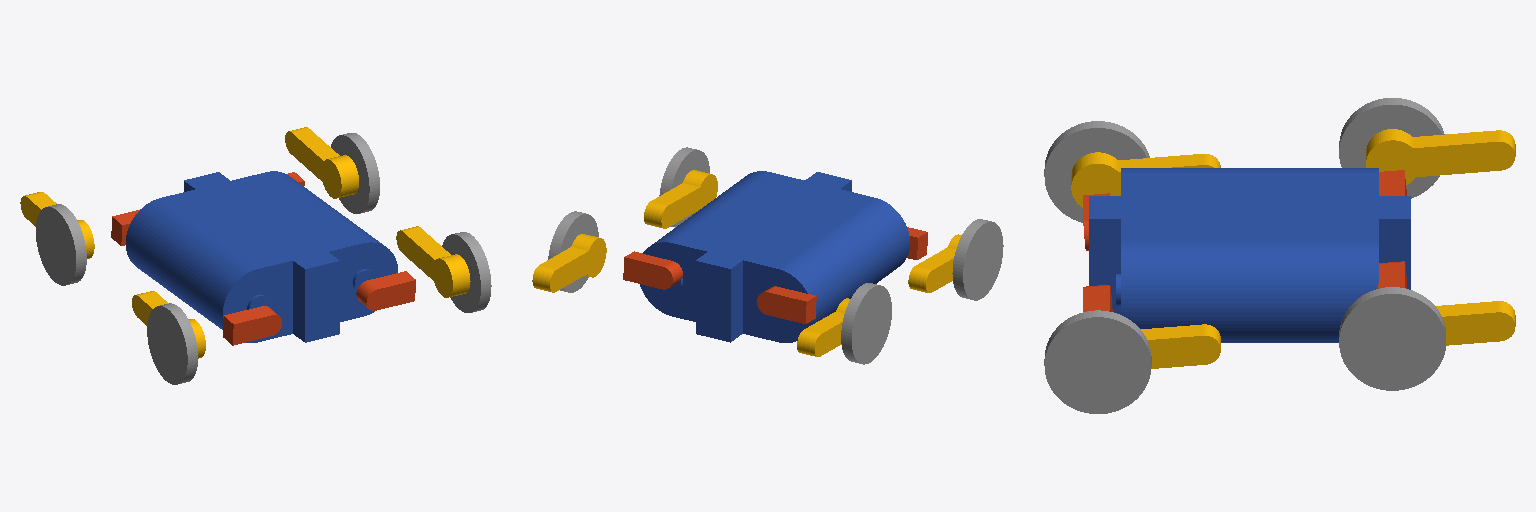
--- Render facts (derived) ---
Views: 3 orthographic renders of the robot side by side, from view 1: azimuth 30°, elevation 25°; view 2: azimuth 150°, elevation 25°; view 3: azimuth 270°, elevation 25°.
Model wheely with 17 links and 16 joints (12 revolute, 4 continuous), rooted at base, posed all joints at 0.
Links seen in each view (by area): view 1: base, BRW, FRW, BLLL, FLLL, FLW, BLW, FLH, FRH, FRLL, BRLL, BRH; view 2: base, BRW, FRW, BLLL, FLLL, BRH, BLH, FRLL, BRLL, BLW, FLW, FRH; view 3: base, FLW, BLW, BRLL, FRW, BRW, FRLL, BLLL, FLLL, FLH, BLH, BRH.
Boxes of the visible links, left/top/right/bottom form: base: left=126, top=171, right=397, bottom=342; BRW: left=36, top=204, right=86, bottom=285; FRW: left=147, top=303, right=197, bottom=384; BLLL: left=285, top=127, right=358, bottom=198; FLLL: left=396, top=226, right=470, bottom=297; FLW: left=442, top=232, right=491, bottom=312; BLW: left=331, top=133, right=379, bottom=213; FLH: left=356, top=271, right=415, bottom=310; FRH: left=223, top=306, right=281, bottom=345; FRLL: left=132, top=291, right=205, bottom=358; BRLL: left=20, top=192, right=94, bottom=258; BRH: left=111, top=210, right=139, bottom=245; base: left=640, top=171, right=909, bottom=342; BRW: left=841, top=283, right=891, bottom=364; FRW: left=952, top=219, right=1003, bottom=300; BLLL: left=532, top=234, right=606, bottom=292; FLLL: left=644, top=170, right=717, bottom=228; BRH: left=757, top=286, right=816, bottom=323; BLH: left=623, top=251, right=682, bottom=289; FRLL: left=908, top=234, right=961, bottom=292; BRLL: left=797, top=298, right=849, bottom=356; BLW: left=548, top=211, right=598, bottom=292; FLW: left=659, top=147, right=709, bottom=227; FRH: left=907, top=227, right=927, bottom=259; base: left=1089, top=168, right=1410, bottom=342; FLW: left=1044, top=310, right=1151, bottom=413; BLW: left=1339, top=287, right=1445, bottom=390; BRLL: left=1366, top=129, right=1515, bottom=184; FRW: left=1044, top=121, right=1149, bottom=222; BRW: left=1339, top=98, right=1444, bottom=198; FRLL: left=1071, top=152, right=1220, bottom=207; BLLL: left=1436, top=301, right=1515, bottom=345; FLLL: left=1141, top=324, right=1220, bottom=368; FLH: left=1083, top=285, right=1112, bottom=311; BLH: left=1378, top=261, right=1406, bottom=288; BRH: left=1379, top=170, right=1406, bottom=195.
Bounding box of the posed robot: 0.433 × 0.4396 × 0.1241 m (x, y, z).
13 mesh visuals loaded from 5 distinct referenced files (4 binary STL); not drawn: 4 (reference not matched to a file when rendering).

The robot description file, URDF, robot "wheely":
<?xml version="1.0" encoding="utf-8"?>
<robot name="wheely">
    <!-- <link name="base">
        <visual>
            <origin rpy="0 0 0" xyz="0 0 0" />
            <geometry>
                <box size="0.001 0.001 0.001" />
            </geometry>
        </visual>
    </link>
    <joint name="floating_base" type="fixed">
        <origin rpy="0 0 0" xyz="0 0 0" />
        <parent link="base" />
        <child link="trunk" />
    </joint> -->
    <link name="base">
        <visual>
            <origin xyz="0.052028044034958947917 0.32788004898623768213 -0.25518667591527960381"
                rpy="0 -0 -0" />
            <geometry>
                <mesh filename="../meshes/V2.9/trunk.stl" />
            </geometry>
            <material name="trunk_material">
                <color rgba="0.2313725490196078538 0.38039215686274507888 0.7058823529411765163 1.0" />
            </material>
        </visual>
        <collision>
            <origin xyz="0.052028044034958947917 0.32788004898623768213 -0.25518667591527960381"
                rpy="0 0 0" />
            <geometry>
                <mesh filename="../meshes/V2.9/base_collision.stl" />
            </geometry>
        </collision>
        <inertial>
            <origin xyz="0.052028043192024649166 0.32352226095884867307 -0.20537694108855775177"
                rpy="0 0 0" />
            <mass value="1.0520000000000000462" />
            <inertia ixx="0.0066139164607848313637" ixy="-2.2127823919599840592e-11"
                ixz="-6.4087305219667747752e-11" iyy="0.0053174843071791873944"
                iyz="-0.00043473231152154929047" izz="0.010248462186210408054" />
        </inertial>
    </link>

    <link name="FRH">
        <visual>
            <origin xyz="0.032215611636638635806 0.028555101990603987128 0"
                rpy="1.570796326794896558 1.1108205397628203633e-25 2.389243996016179635e-24" />
            <geometry>
                <mesh filename="../meshes/V2.9/h.stl" />
            </geometry>
            <material name="h_material">
                <color
                    rgba="0.86666666666666669627 0.32156862745098041545 0.15686274509803921351 1.0" />
            </material>
        </visual>
        <inertial>
            <origin
                xyz="0.021525592503996215932 -1.7347234759768070944e-17 -0.012500000000000000694"
                rpy="0 0 0" />
            <mass value="0.0090000000000000010547" />
            <inertia ixx="1.1139804559497147109e-06" ixy="-4.7104694595813762511e-30"
                ixz="2.1217815524415606115e-30" iyy="3.861958513835964979e-06"
                iyz="4.2501859106604311021e-23" izz="4.0384389697856793485e-06" />
        </inertial>
    </link>

    <link name="FRLU">
        <visual>
            <origin
                xyz="2.7755575615628913511e-17 2.7755575615628913511e-17 -0.044999999999999998335"
                rpy="-1.570796326794896558 -1.570796326794896558 0" />
            <geometry>
                <mesh filename="../meshes/V2.9/lu.stl" />
            </geometry>
            <material name="lu_material">
                <color
                    rgba="0.90980392156862743835 0.57254901960784310155 0.16470588235294117418 1.0" />
            </material>
        </visual>
        <collision>
            <origin
                xyz="2.7755575615628913511e-17 2.7755575615628913511e-17 -0.044999999999999998335"
                rpy="-1.570796326794896558 -1.570796326794896558 0" />
            <geometry>
                <mesh filename="../meshes/V2.9/LU_collision.stl" />
            </geometry>
        </collision>
        <inertial>
            <origin
                xyz="3.3936924476517365403e-17 -0.049999999999999968081 -0.022499999999999992228"
                rpy="0 0 0" />
            <mass value="0.37600000000000000089" />
            <inertia ixx="0.00054596018323756559387" ixy="-6.2909339871692696768e-21"
                ixz="-2.7466218204555690158e-28" iyy="9.0305640199817038306e-05"
                iyz="-1.1186833988322070734e-27" izz="0.00050936582343738242076" />
        </inertial>
    </link>

    <link name="FRLL">
        <visual>
            <origin xyz="0 0 -0.024999999999999980571"
                rpy="-1.570796326794896558 -1.570796326794896558 0" />
            <geometry>
                <mesh filename="../meshes/V2.9/ll.stl" />
            </geometry>
            <material name="ll_material">
                <color rgba="1 0.7568627450980391913 0.054901960784313724728 1.0" />
            </material>
        </visual>
        <collision>
            <origin xyz="0 0 -0.024999999999999980571"
                rpy="-1.570796326794896558 -1.570796326794896558 0" />
            <geometry>
                <mesh filename="../meshes/V2.9/LL_collision.stl" />
            </geometry>
        </collision>
        <inertial>
            <origin
                xyz="5.4351954812993782202e-18 -0.061136909622975937895 -0.012499999999999978142"
                rpy="0 0 0" />
            <mass value="0.058000000000000002942" />
            <inertia ixx="9.3657217382847482521e-05" ixy="1.8944387790966397996e-21"
                ixz="1.9264078887896144911e-28" iyy="9.3296789238021415761e-06"
                iyz="8.0611222752185609261e-29" izz="9.6945229639982987888e-05" />
        </inertial>
    </link>

    <link name="FRW">
        <visual>
            <origin xyz="-0.087087206542491885086 -0.027046862989664105514 -0.015000000000000041078"
                rpy="-1.570796326794896558 -1.570796326794896558 0" />
            <geometry>
                <mesh filename="../meshes/V2.9/w.stl" />
            </geometry>
            <material name="w_material">
                <color
                    rgba="0.64705882352941179736 0.64705882352941179736 0.64705882352941179736 1.0" />
            </material>
        </visual>
        <collision>
            <origin xyz="-0.087087206542491885086 -0.027046862989664105514 -0.015000000000000041078"
                rpy="-1.570796326794896558 -1.570796326794896558 0" />
            <geometry>
                <mesh filename="../meshes/V2.9/W_collision.stl" />
            </geometry>
        </collision>
        <inertial>
            <origin
                xyz="4.1117825183426055003e-17 -2.7755575615628913511e-17 -0.0075000000000000422232"
                rpy="0 0 0" />
            <mass value="0.036999999999999998168" />
            <inertia ixx="2.3818750000000009755e-05" ixy="-3.3980231466975062248e-22"
                ixz="-2.3298381774475384034e-28" iyy="2.3818750000000006367e-05"
                iyz="6.4062349800968410432e-29" izz="4.6249999999999985784e-05" />
        </inertial>
    </link>

    <joint name="FRW" type="continuous">
        <origin xyz="0 -0.09999999999999995004 -0.025499999999999981015"
            rpy="1.9733806694702264955e-23 -1.1152152026486324738e-23 1.57079632679489678" />
        <parent link="FRLL" />
        <child link="FRW" />
        <axis xyz="0 0 1" />
        <limit effort="3.43" velocity="1.5707" />
        <dynamics damping="0.5" friction="0.0"/>
    </joint>

    <joint name="FRK" type="revolute">
        <origin xyz="2.7755575615628913511e-17 -0.099999999999999894529 -0.045500000000000012657"
            rpy="-7.1116470838921432146e-22 -2.2925350776676440181e-23 3.141592653589753148" />
        <parent link="FRLU" />
        <child link="FRLL" />
        <axis xyz="0 0 1" />
        <limit effort="6.864655" velocity="8.055365759832842" lower="0" upper="3.141592653589793116" />
        <dynamics damping="0.5" friction="0.0"/>
    </joint>

    <joint name="FRHL" type="revolute">
        <origin xyz="0.055499999999999966027 -5.5511151231257827021e-17 -0.012499999999999983347"
            rpy="-1.570796326794896558 -1.7868117234929788401e-08 1.5707963267948958919" />
        <parent link="FRH" />
        <child link="FRLU" />
        <axis xyz="0 0 1" />
        <limit effort="6.864655" velocity="8.055365759832842" lower="-3.141592653589793116" upper="0" />
        <dynamics damping="0.5" friction="0.0"/>
    </joint>

    <joint name="FRHU" type="revolute">
        <origin xyz="-0.022971959406365649592 0.19849982820089065449 -0.21631499016155675275"
            rpy="1.4835298463270636393 1.4990033393763916416e-08 3.1415926314949418341" />
        <parent link="base" />
        <child link="FRH" />
        <axis xyz="0 0 1" />
        <limit effort="6.864655" velocity="8.055365759832842" lower="-0.5" upper="0.5" /> <!--lower="-1.570796326794896558" upper="1.570796326794896558"-->
        <dynamics damping="0.5" friction="0.0"/>
    </joint>

    <link name="FLH">
        <visual>
            <origin xyz="0.032215611636638635806 0.028555101990604014883 0"
                rpy="1.570796326794896558 9.1075724079965769096e-25 1.505906012323039885e-24" />
            <geometry>
                <mesh filename="../meshes/V2.9/h.stl" />
            </geometry>
            <material name="h_material">
                <color
                    rgba="0.86666666666666669627 0.32156862745098041545 0.15686274509803921351 1.0" />
            </material>
        </visual>
        <inertial>
            <origin xyz="0.021525592503996215932 1.0408340855860842566e-17 -0.012500000000000000694"
                rpy="0 0 0" />
            <mass value="0.0090000000000000010547" />
            <inertia ixx="1.1139804559497151344e-06" ixy="-1.9689084518447163995e-31"
                ixz="3.3800616490418434534e-30" iyy="3.861958513835964979e-06"
                iyz="-2.7196292853585677277e-23" izz="4.0384389697856793485e-06" />
        </inertial>
    </link>

    <link name="FLLU">
        <visual>
            <origin xyz="-2.7755575615628913511e-17 -2.7755575615628913511e-17 0"
                rpy="1.570796326794896558 1.570796326794896558 0" />
            <geometry>
                <mesh filename="../meshes/V2.9/lu.stl" />
            </geometry>
            <material name="lu_material">
                <color
                    rgba="0.90980392156862743835 0.57254901960784310155 0.16470588235294117418 1.0" />
            </material>
        </visual>
        <collision>
            <origin xyz="-2.7755575615628913511e-17 -2.7755575615628913511e-17 0"
                rpy="1.570796326794896558 1.570796326794896558 0" />
            <geometry>
                <mesh filename="../meshes/V2.9/LU_collision.stl" />
            </geometry>
        </collision>
        <inertial>
            <origin
                xyz="-2.2274676627093840081e-17 0.049999999999999981959 -0.022500000000000006106"
                rpy="0 0 0" />
            <mass value="0.37600000000000000089" />
            <inertia ixx="0.00054596018323756537703" ixy="-2.2992841737624431057e-21"
                ixz="2.7015283880290629614e-28" iyy="9.0305640199817092516e-05"
                iyz="-9.070826082759685624e-29" izz="0.00050936582343738242076" />
        </inertial>
    </link>

    <link name="FLLL">
        <visual>
            <origin xyz="0 0 0" rpy="1.570796326794896558 1.570796326794896558 0" />
            <geometry>
                <mesh filename="../meshes/V2.9/ll.stl" />
            </geometry>
            <material name="ll_material">
                <color rgba="1 0.7568627450980391913 0.054901960784313724728 1.0" />
            </material>
        </visual>
        <collision>
            <origin xyz="0 0 0" rpy="1.570796326794896558 1.570796326794896558 0" />
            <geometry>
                <mesh filename="../meshes/V2.9/LL_collision.stl" />
            </geometry>
        </collision>
        <inertial>
            <origin xyz="5.7405508275014623238e-18 0.061136909622975937895 -0.012500000000000002429"
                rpy="0 0 0" />
            <mass value="0.058000000000000002942" />
            <inertia ixx="9.3657217382847509626e-05" ixy="1.3290574521296746837e-21"
                ixz="6.6457046954983543975e-31" iyy="9.3296789238021415761e-06"
                iyz="1.723172485519355639e-28" izz="9.6945229639982987888e-05" />
        </inertial>
    </link>

    <link name="FLW">
        <visual>
            <origin xyz="-0.087087206542491898964 0.027046862989664105514 0"
                rpy="1.570796326794896558 1.570796326794896558 0" />
            <geometry>
                <mesh filename="../meshes/V2.9/w.stl" />
            </geometry>
            <material name="w_material">
                <color
                    rgba="0.64705882352941179736 0.64705882352941179736 0.64705882352941179736 1.0" />
            </material>
        </visual>
        <collision>
            <origin xyz="-0.087087206542491898964 0.027046862989664105514 0"
                rpy="1.570796326794896558 1.570796326794896558 0" />
            <geometry>
                <mesh filename="../meshes/V2.9/W_collision.stl" />
            </geometry>
        </collision>
        <inertial>
            <origin
                xyz="1.4189161324449813362e-17 2.7755575615628913511e-17 -0.0074999999999999997224"
                rpy="0 0 0" />
            <mass value="0.036999999999999998168" />
            <inertia ixx="2.3818749999999996202e-05" ixy="-5.4842054254748524998e-22"
                ixz="-4.3511704709532121015e-29" iyy="2.3818750000000006367e-05"
                iyz="1.5881364658331320458e-29" izz="4.6249999999999999336e-05" />
        </inertial>
    </link>

    <joint name="FLW" type="continuous">
        <origin xyz="-5.5511151231257827021e-17 0.10000000000000056066 -0.025499999999999994893"
            rpy="-1.7353970132847589299e-16 5.3303376734589298289e-17 -1.5707963267948992225" />
        <parent link="FLLL" />
        <child link="FLW" />
        <axis xyz="0 0 1" />
        <limit effort="3.43" velocity="1.5707" />
        <dynamics damping="0.5" friction="0.0"/>
    </joint>

    <joint name="FLK" type="revolute">
        <origin xyz="-2.7755575615628913511e-17 0.10000000000000000555 -0.045500000000000068168"
            rpy="-7.8652590286309986181e-18 -4.7062504561224808517e-16 3.1415926520183123927" />
        <parent link="FLLU" />
        <child link="FLLL" />
        <axis xyz="0 0 1" />
        <limit effort="6.864655" velocity="8.055365759832842" lower="-3.141592653589793116" upper="0" />
        <dynamics damping="0.5" friction="0.0"/>
    </joint>

    <joint name="FLHL" type="revolute">
        <origin xyz="0.055500000000000021538 2.7755575615628913511e-17 -0.012500000000000011102"
            rpy="1.570796326794896558 -4.159598675987668933e-09 -1.5707963267948958919" />
        <parent link="FLH" />
        <child link="FLLU" />
        <axis xyz="0 0 1" />
        <limit effort="6.864655" velocity="8.055365759832842" lower="0" upper="3.141592653589793116" />
        <dynamics damping="0.5" friction="0.0"/>
    </joint>

    <joint name="FLHU" type="revolute">
        <origin xyz="0.12702804059363420608 0.19849982488666309544 -0.21631498791305175944"
            rpy="-1.4835298463270638614 6.7904519714569485168e-09 -2.0189305413825018056e-08" />
        <parent link="base" />
        <child link="FLH" />
        <axis xyz="0 0 1" />
        <limit effort="6.864655" velocity="8.055365759832842" lower="-0.5" upper="0.5" /> <!--lower="-1.570796326794896558" upper="1.570796326794896558"-->
        <dynamics damping="0.5" friction="0.0"/>
    </joint>

    <link name="BLH">
        <visual>
            <origin xyz="0.032215611636638663562 -0.028555101990604014883 -0.025000000000000022204"
                rpy="-1.570796326794896558 -8.10198965264292864e-25 9.4990879062215657594e-26" />
            <geometry>
                <mesh filename="../meshes/V2.9/h.stl" />
            </geometry>
            <material name="h_material">
                <color
                    rgba="0.86666666666666669627 0.32156862745098041545 0.15686274509803921351 1.0" />
            </material>
        </visual>
        <inertial>
            <origin
                xyz="0.021525592503996243687 -1.0408340855860842566e-17 -0.012500000000000018041"
                rpy="0 0 0" />
            <mass value="0.0090000000000000010547" />
            <inertia ixx="1.1139804559497151344e-06" ixy="5.4442413068550483629e-31"
                ixz="1.6844066981830151369e-30" iyy="3.861958513835964979e-06"
                iyz="8.6849436149024970986e-23" izz="4.0384389697856810426e-06" />
        </inertial>
    </link>

    <link name="BLLU">
        <visual>
            <origin xyz="-5.5511151231257827021e-17 0 0"
                rpy="1.570796326794896558 1.570796326794896558 0" />
            <geometry>
                <mesh filename="../meshes/V2.9/lu.stl" />
            </geometry>
            <material name="lu_material">
                <color
                    rgba="0.90980392156862743835 0.57254901960784310155 0.16470588235294117418 1.0" />
            </material>
        </visual>
        <collision>
            <origin xyz="-5.5511151231257827021e-17 0 0"
                rpy="1.570796326794896558 1.570796326794896558 0" />
            <geometry>
                <mesh filename="../meshes/V2.9/LU_collision.stl" />
            </geometry>
        </collision>
        <inertial>
            <origin
                xyz="-4.9670691399645773857e-17 0.049999999999999995837 -0.022500000000000006106"
                rpy="0 0 0" />
            <mass value="0.37600000000000000089" />
            <inertia ixx="0.00054596018323756537703" ixy="1.1357734578361653713e-21"
                ixz="1.6575077737249074558e-29" iyy="9.0305640199817038306e-05"
                iyz="-7.7086529605856559569e-28" izz="0.00050936582343738242076" />
        </inertial>
    </link>

    <link name="BLLL">
        <visual>
            <origin xyz="2.7755575615628913511e-17 0 0"
                rpy="1.570796326794896558 1.570796326794896558 0" />
            <geometry>
                <mesh filename="../meshes/V2.9/ll.stl" />
            </geometry>
            <material name="ll_material">
                <color rgba="1 0.7568627450980391913 0.054901960784313724728 1.0" />
            </material>
        </visual>
        <collision>
            <origin xyz="2.7755575615628913511e-17 0 0"
                rpy="1.570796326794896558 1.570796326794896558 0" />
            <geometry>
                <mesh filename="../meshes/V2.9/LL_collision.stl" />
            </geometry>
        </collision>
        <inertial>
            <origin xyz="3.1490883241477422783e-17 0.061136909622975937895 -0.012500000000000002429"
                rpy="0 0 0" />
            <mass value="0.058000000000000002942" />
            <inertia ixx="9.3657217382847563836e-05" ixy="-4.5788073598597132874e-22"
                ixz="-8.9882329698141912439e-30" iyy="9.3296789238021415761e-06"
                iyz="3.1104732328345600481e-28" izz="9.6945229639982987888e-05" />
        </inertial>
    </link>

    <link name="BLW">
        <visual>
            <origin xyz="-0.087087206542491912842 0.027046862989664050003 0"
                rpy="1.570796326794896558 1.570796326794896558 0" />
            <geometry>
                <mesh filename="../meshes/V2.9/w.stl" />
            </geometry>
            <material name="w_material">
                <color
                    rgba="0.64705882352941179736 0.64705882352941179736 0.64705882352941179736 1.0" />
            </material>
        </visual>
        <collision>
            <origin xyz="-0.087087206542491912842 0.027046862989664050003 0"
                rpy="1.570796326794896558 1.570796326794896558 0" />
            <geometry>
                <mesh filename="../meshes/V2.9/W_collision.stl" />
            </geometry>
        </collision>
        <inertial>
            <origin
                xyz="2.8662840708343162277e-20 -2.7755575615628913511e-17 -0.0074999999999999997224"
                rpy="0 0 0" />
            <mass value="0.036999999999999998168" />
            <inertia ixx="2.3818749999999996202e-05" ixy="1.1371586916183490444e-22"
                ixz="-3.4166129223600548991e-29" iyy="2.3818750000000006367e-05"
                iyz="3.7530894346167913993e-30" izz="4.6249999999999999336e-05" />
        </inertial>
    </link>

    <joint name="BLW" type="continuous">
        <origin xyz="0 0.10000000000000003331 -0.025500000000000022649"
            rpy="-3.6944196118392699176e-24 8.8577126057210653786e-24 1.570796326794896558" />
        <parent link="BLLL" />
        <child link="BLW" />
        <axis xyz="0 0 1" />
        <limit effort="3.43" velocity="1.5707" />
        <dynamics damping="0.5" friction="0.0"/>
    </joint>

    <joint name="BLK" type="revolute">
        <origin xyz="-2.7755575615628913511e-17 0.10000000000000003331 -0.045499999999999984901"
            rpy="1.4434690318418828902e-23 -2.1427618407478369809e-16 3.1415926503251903057" />
        <parent link="BLLU" />
        <child link="BLLL" />
        <axis xyz="0 0 1" />
        <limit effort="6.864655" velocity="8.055365759832842" lower="-3.141592653589793116" upper="0" />
        <dynamics damping="0.5" friction="0.0"/>
    </joint>

    <joint name="BLHL" type="revolute">
        <origin xyz="0.055500000000000049294 0 -0.012500000000000011102"
            rpy="-1.570796326794896558 4.159598612862823089e-09 1.57079632679489678" />
        <parent link="BLH" />
        <child link="BLLU" />
        <axis xyz="0 0 1" />
        <limit effort="6.864655" velocity="8.055365759832842" lower="0" upper="3.141592653589793116" />
        <dynamics damping="0.5" friction="0.0"/>
    </joint>

    <joint name="BLHU" type="revolute">
        <origin xyz="0.12702804579041498956 0.44854469371680671941 -0.19443889201555877855"
            rpy="1.6580628072627294767 1.8044978216328643843e-09 -2.0625520126565480844e-08" />
        <parent link="base" />
        <child link="BLH" />
        <axis xyz="0 0 1" />
        <limit effort="6.864655" velocity="8.055365759832842" lower="-0.5" upper="0.5" /> <!--lower="-1.570796326794896558" upper="1.570796326794896558"-->
        <dynamics damping="0.5" friction="0.0"/>
    </joint>

    <link name="BRH">
        <visual>
            <origin xyz="0.032215611636638642745 -0.028555101990603987128 -0.025000000000000022204"
                rpy="-1.570796326794896558 -1.4998403820108036855e-24 -4.3122347891137220117e-26" />
            <geometry>
                <mesh filename="../meshes/V2.9/h.stl" />
            </geometry>
            <material name="h_material">
                <color
                    rgba="0.86666666666666669627 0.32156862745098041545 0.15686274509803921351 1.0" />
            </material>
        </visual>
        <inertial>
            <origin xyz="0.021525592503996222871 1.7347234759768070944e-17 -0.012500000000000018041"
                rpy="0 0 0" />
            <mass value="0.0090000000000000010547" />
            <inertia ixx="1.1139804559497151344e-06" ixy="9.3627191242228544418e-32"
                ixz="-4.7049295494197803859e-30" iyy="3.861958513835964979e-06"
                iyz="-1.4219191714590580432e-22" izz="4.0384389697856810426e-06" />
        </inertial>
    </link>

    <link name="BRLU">
        <visual>
            <origin xyz="0 0 -0.044999999999999998335"
                rpy="-1.570796326794896558 -1.570796326794896558 0" />
            <geometry>
                <mesh filename="../meshes/V2.9/lu.stl" />
            </geometry>
            <material name="lu_material">
                <color
                    rgba="0.90980392156862743835 0.57254901960784310155 0.16470588235294117418 1.0" />
            </material>
        </visual>
        <collision>
            <origin xyz="0 0 -0.044999999999999998335"
                rpy="-1.570796326794896558 -1.570796326794896558 0" />
            <geometry>
                <mesh filename="../meshes/V2.9/LU_collision.stl" />
            </geometry>
        </collision>
        <inertial>
            <origin
                xyz="5.5531692938527983593e-18 -0.049999999999999995837 -0.022499999999999992228"
                rpy="0 0 0" />
            <mass value="0.37600000000000000089" />
            <inertia ixx="0.00054596018323756516019" ixy="6.9271241937707520723e-21"
                ixz="3.9087517827652982159e-29" iyy="9.0305640199817065411e-05"
                iyz="-1.0600944170879576797e-27" izz="0.00050936582343738242076" />
        </inertial>
    </link>

    <link name="BRLL">
        <visual>
            <origin xyz="0 -1.1102230246251565404e-16 -0.025000000000000008327"
                rpy="-1.570796326794896558 -1.570796326794896558 0" />
            <geometry>
                <mesh filename="../meshes/V2.9/ll.stl" />
            </geometry>
            <material name="ll_material">
                <color rgba="1 0.7568627450980391913 0.054901960784313724728 1.0" />
            </material>
        </visual>
        <collision>
            <origin xyz="0 -1.1102230246251565404e-16 -0.025000000000000008327"
                rpy="-1.570796326794896558 -1.570796326794896558 0" />
            <geometry>
                <mesh filename="../meshes/V2.9/LL_collision.stl" />
            </geometry>
        </collision>
        <inertial>
            <origin
                xyz="4.7243804506977838144e-18 -0.061136909622976041978 -0.012500000000000005898"
                rpy="0 0 0" />
            <mass value="0.058000000000000002942" />
            <inertia ixx="9.3657217382847482521e-05" ixy="1.6483546605587253019e-21"
                ixz="-8.8628767452269487272e-30" iyy="9.3296789238021381879e-06"
                iyz="5.3997135265007105726e-28" izz="9.6945229639982987888e-05" />
        </inertial>
    </link>

    <link name="BRW">
        <visual>
            <origin xyz="-0.087087206542491912842 -0.027046862989664077759 -0.014999999999999985567"
                rpy="-1.570796326794896558 -1.570796326794896558 0" />
            <geometry>
                <mesh filename="../meshes/V2.9/w.stl" />
            </geometry>
            <material name="w_material">
                <color
                    rgba="0.64705882352941179736 0.64705882352941179736 0.64705882352941179736 1.0" />
            </material>
        </visual>
        <collision>
            <origin xyz="-0.087087206542491912842 -0.027046862989664077759 -0.014999999999999985567"
                rpy="-1.570796326794896558 -1.570796326794896558 0" />
            <geometry>
                <mesh filename="../meshes/V2.9/W_collision.stl" />
            </geometry>
        </collision>
        <inertial>
            <origin xyz="-2.8890779271810086101e-19 0 -0.007499999999999986712" rpy="0 0 0" />
            <mass value="0.036999999999999998168" />
            <inertia ixx="2.3818749999999996202e-05" ixy="-1.4893564017461954635e-22"
                ixz="-2.1087778044115507542e-28" iyy="2.3818750000000006367e-05"
                iyz="1.0999008652864504797e-30" izz="4.6249999999999999336e-05" />
        </inertial>
    </link>

    <joint name="BRW" type="continuous">
        <origin xyz="0 -0.10000000000000014433 -0.025500000000000008771"
            rpy="-1.4611617380436203065e-24 -7.6761477915259036595e-24 -1.5707963267949449637" />
        <parent link="BRLL" />
        <child link="BRW" />
        <axis xyz="0 0 1" />
        <limit effort="3.43" velocity="1.5707" />
        <dynamics damping="0.5" friction="0.0"/>
    </joint>

    <joint name="BRK" type="revolute">
        <origin xyz="0 -0.10000000000000008882 -0.045499999999999998779"
            rpy="2.4133500580982883301e-16 -8.1245406211814635824e-17 -3.1415926503251419" />
        <parent link="BRLU" />
        <child link="BRLL" />
        <axis xyz="0 0 1" />
        <limit effort="6.864655" velocity="8.055365759832842" lower="0" upper="3.141592653589793116" />
        <dynamics damping="0.5" friction="0.0"/>
    </joint>

    <joint name="BRHL" type="revolute">
        <origin xyz="0.055499999999999979905 0 -0.012500000000000011102"
            rpy="1.570796326794896558 4.1595986025831493502e-09 -1.5707963267948985564" />
        <parent link="BRH" />
        <child link="BRLU" />
        <axis xyz="0 0 1" />
        <limit effort="6.864655" velocity="8.055365759832842" lower="-3.141592653589793116" upper="0" />
        <dynamics damping="0.5" friction="0.0"/>
    </joint>

    <joint name="BRHU" type="revolute">
        <origin xyz="-0.022971954209584755091 0.44854469703103438949 -0.1944388942640637441"
            rpy="-1.6580628072627294767 -1.8044955021529479955e-09 3.1415926329642727133" />
        <parent link="base" />
        <child link="BRH" />
        <axis xyz="0 0 1" />
        <limit effort="6.864655" velocity="8.055365759832842" lower="-0.5" upper="0.5" /> <!--lower="-1.570796326794896558" upper="1.570796326794896558"-->
        <dynamics damping="0.5" friction="0.0"/>
    </joint>


</robot>
